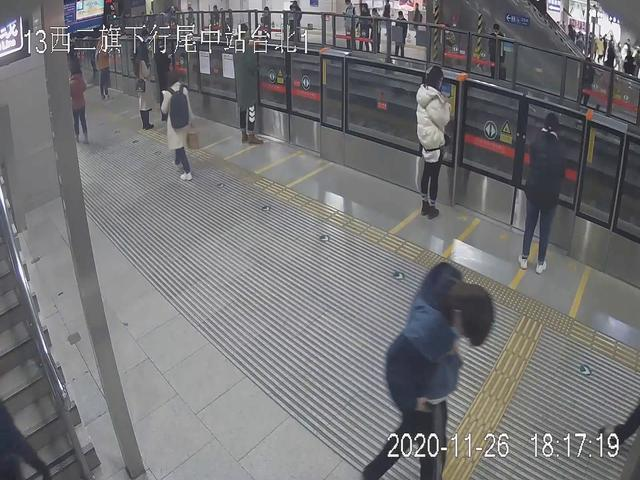person: (367, 263, 485, 480), (520, 106, 564, 275), (411, 64, 452, 215), (226, 21, 269, 149), (159, 69, 198, 186), (129, 39, 157, 131), (68, 55, 96, 140)
